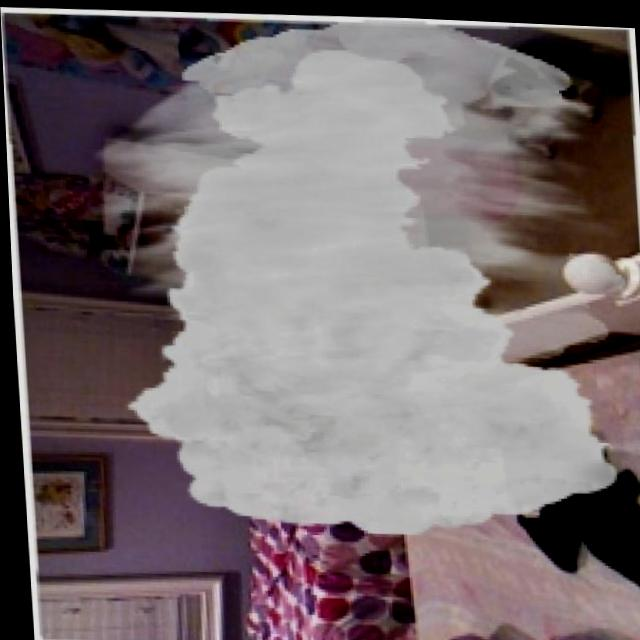no_helmet: (81, 10, 635, 536)
